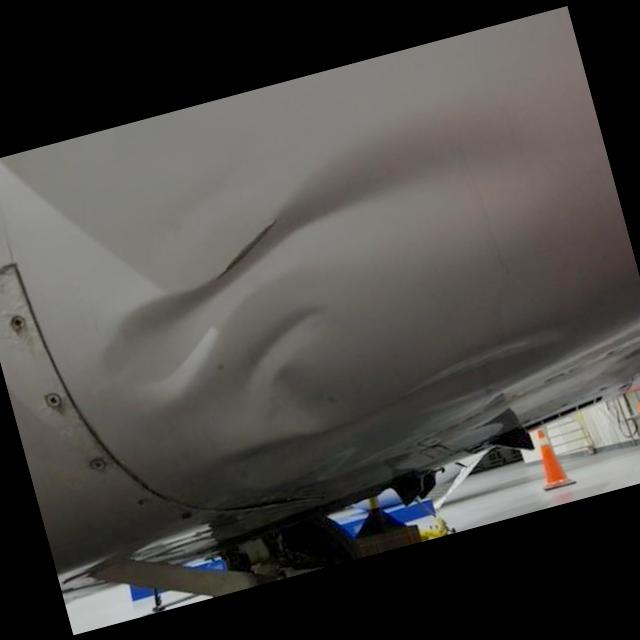dent: (61, 88, 590, 408), (213, 323, 575, 504), (200, 299, 346, 441)
